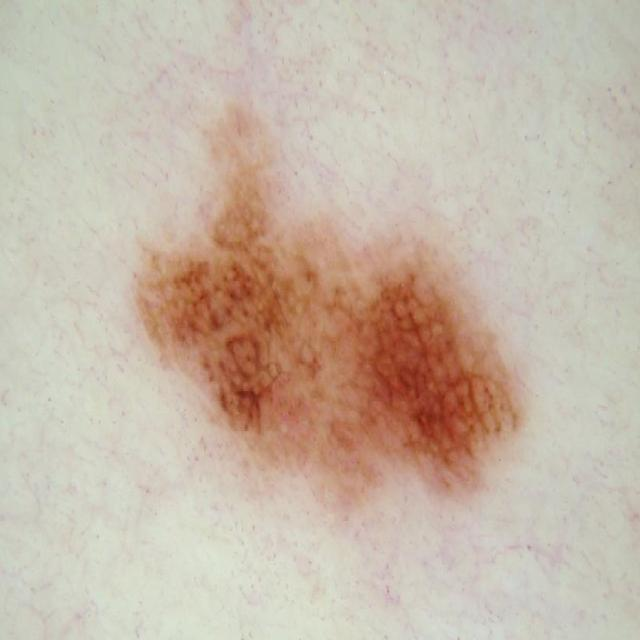Melanoma: (93, 98, 573, 513)
